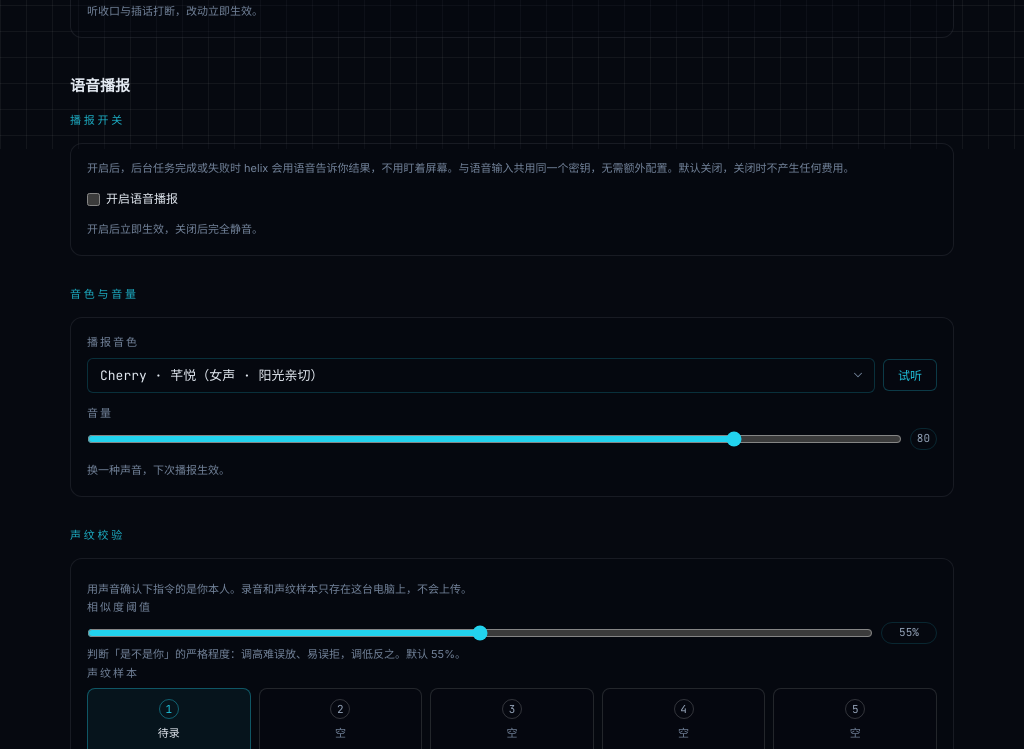
it: VoiceSettingsSection TTS 段（语音播报批 V2 + checkbox 重排） › 试听回执 error → toast err；未 pending 的回执不消费（单飞门控）
The width and height of the screenshot is (1024, 749).
(page scrolled)
Click the button "试听".
click(910, 375)  # box [883,359,937,391]
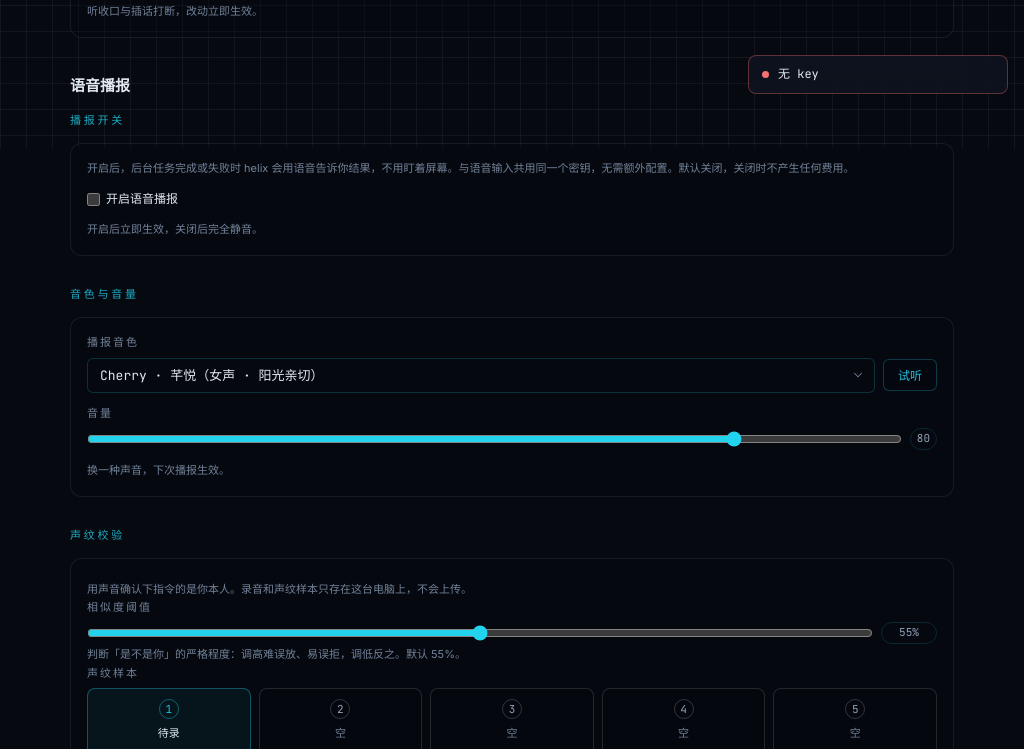
Expected: the text "无 key" is shown, [778,65,819,84]
